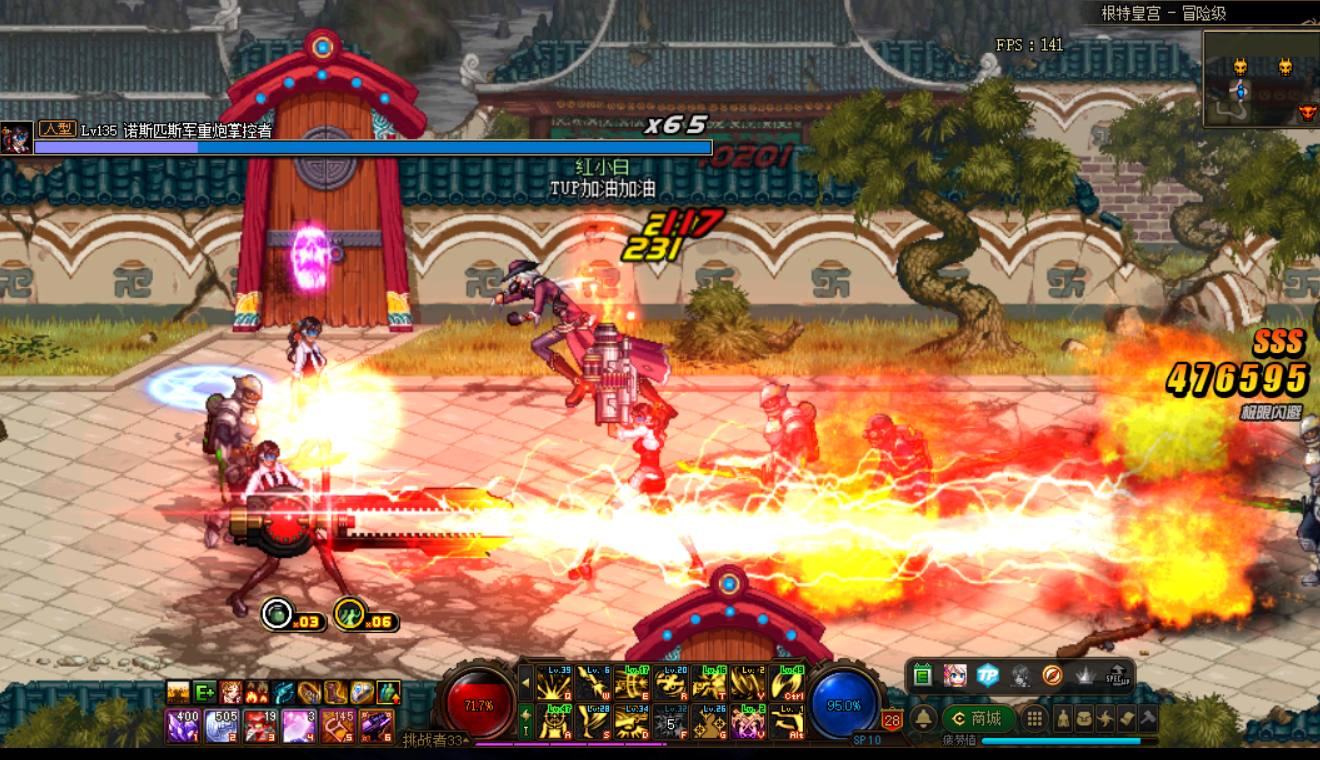monster: (183, 449, 540, 624), (581, 400, 705, 580), (724, 373, 838, 563), (258, 306, 373, 486), (183, 368, 285, 529), (861, 422, 960, 574)
warrior: (479, 244, 684, 428)
